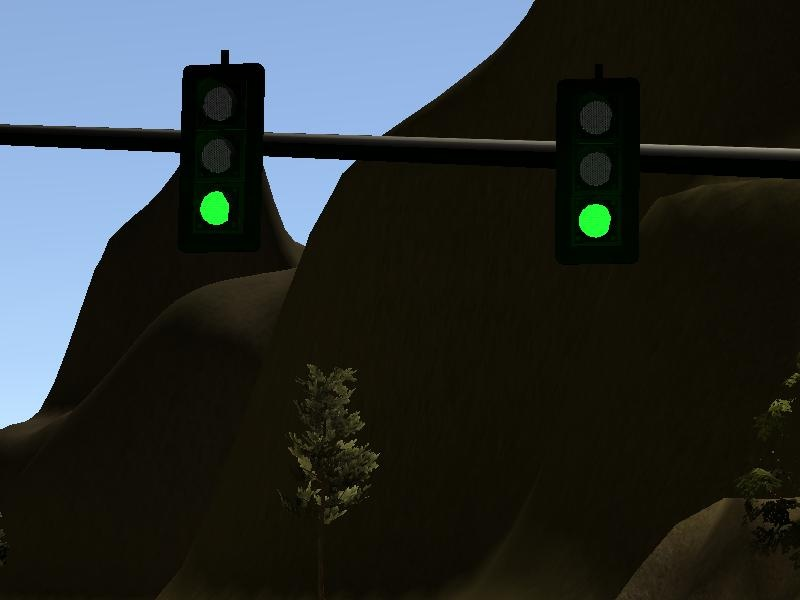GREEN: (179, 62, 266, 248), (553, 79, 640, 265)
